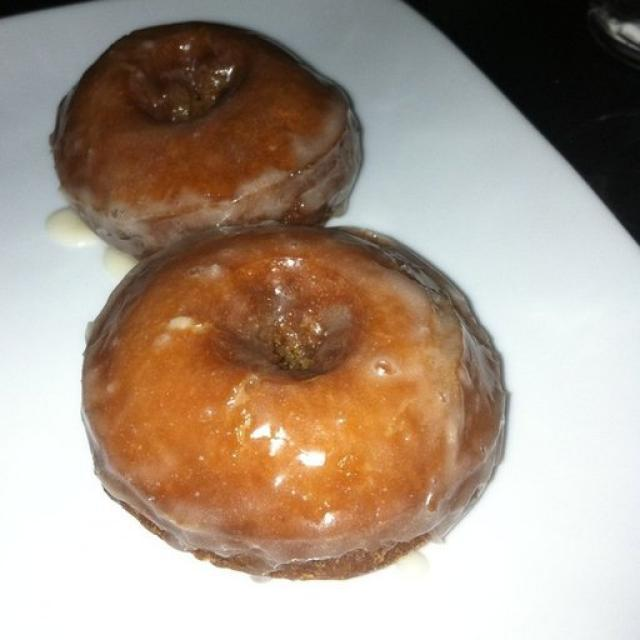Donuts: (53, 13, 543, 587)
